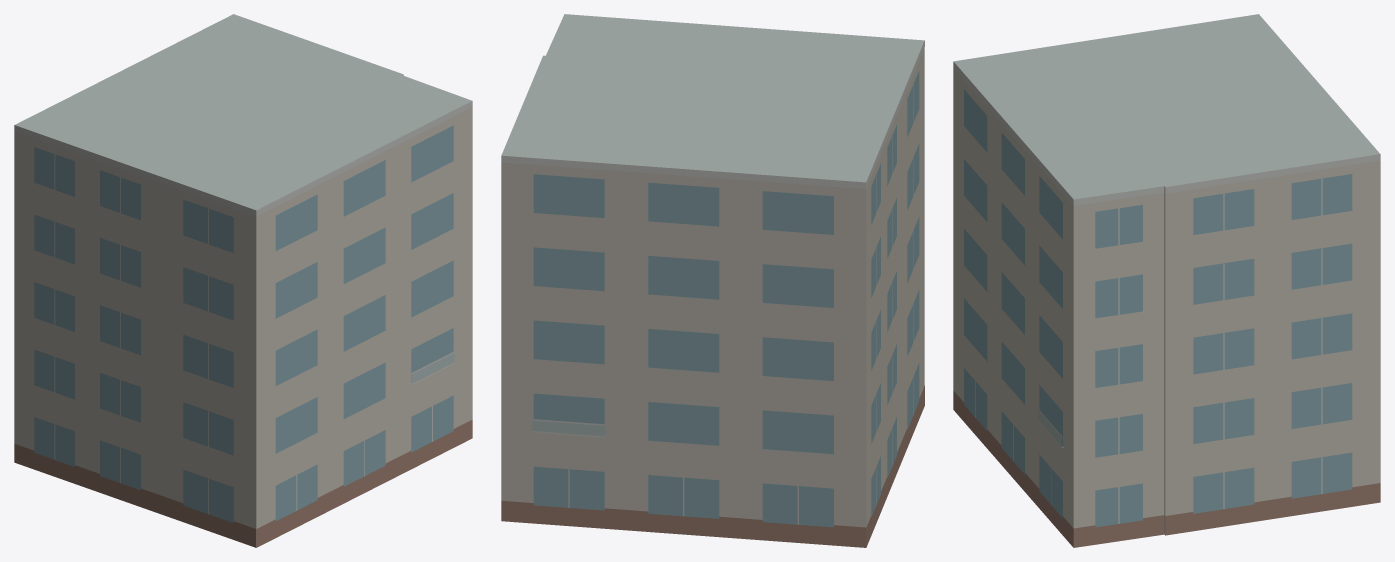
File: survey-upis-32941874.glb
3 views of the same model, side by side, from view 1: azimuth 30°, elevation 25°; view 2: azimuth 150°, elevation 25°; view 3: azimuth 270°, elevation 25° (orthographic). The views are drawn at different scales.
Visible parts, largest first — view 1: survey-upis-32941874.tmp; view 2: survey-upis-32941874.tmp; view 3: survey-upis-32941874.tmp.
Boxes of the visible parts, x1,y1,x2,y2 form: survey-upis-32941874.tmp: (14,14,472,547); survey-upis-32941874.tmp: (501,14,924,547); survey-upis-32941874.tmp: (953,14,1380,547).
Bounding box in the file's own units: 15.2 × 13.3 × 14.79.
